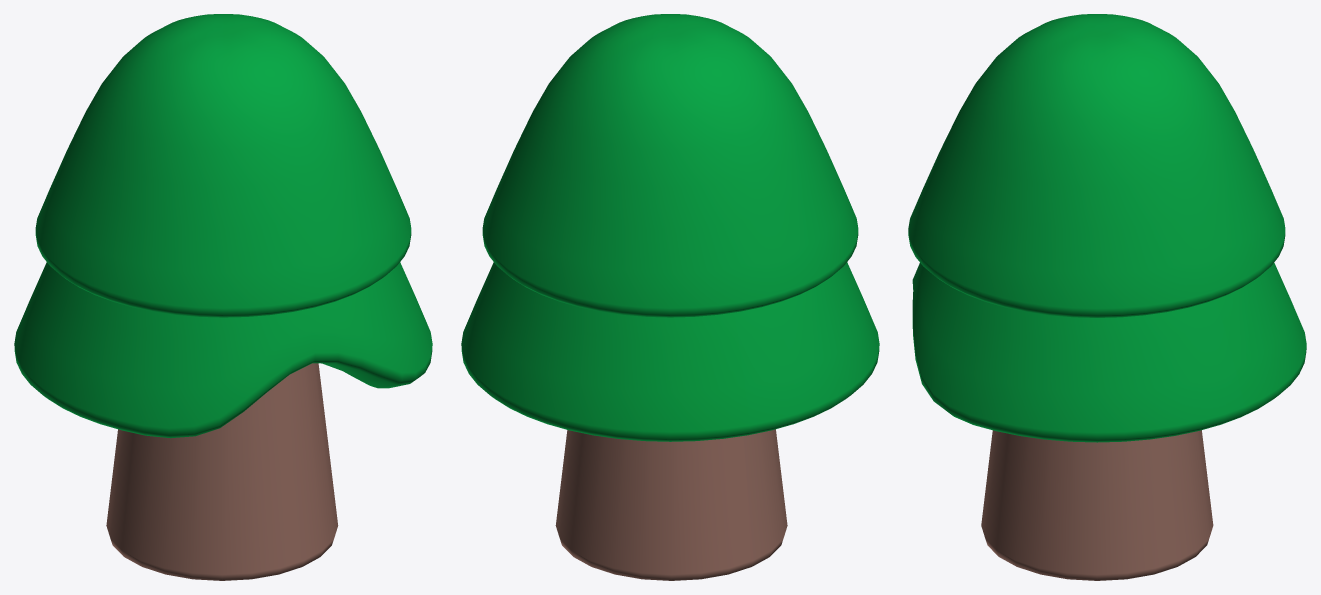
The model's file is City_17_Tree_2.glb.
3 views of the same model, side by side, from view 1: azimuth 30°, elevation 25°; view 2: azimuth 150°, elevation 25°; view 3: azimuth 270°, elevation 25° (orthographic).
Visible parts, largest first — view 1: City_17_Tree_2; view 2: City_17_Tree_2; view 3: City_17_Tree_2.
Boxes of the visible parts, bbox=[...] form: City_17_Tree_2: bbox=[14, 14, 432, 580]; City_17_Tree_2: bbox=[461, 14, 879, 580]; City_17_Tree_2: bbox=[908, 14, 1306, 580].
Bounding box in the file's own units: 1.42 × 1.9 × 1.35.
1 material, 1 textured.
